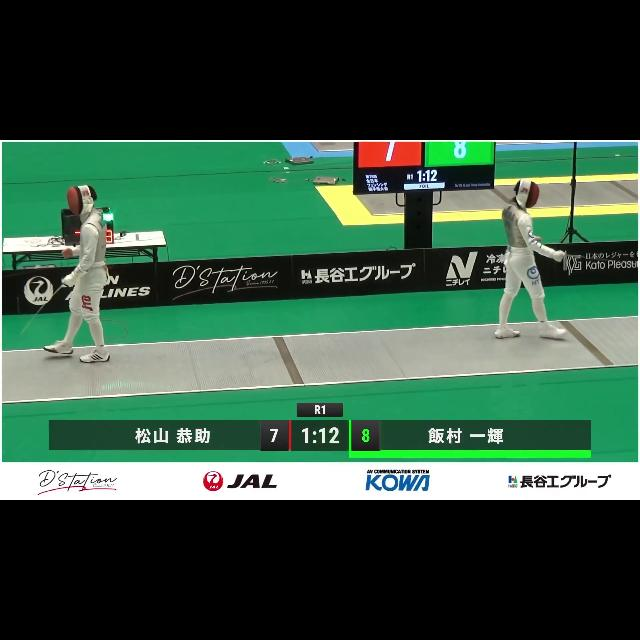blade: (16, 271, 76, 337), (561, 248, 625, 266)
